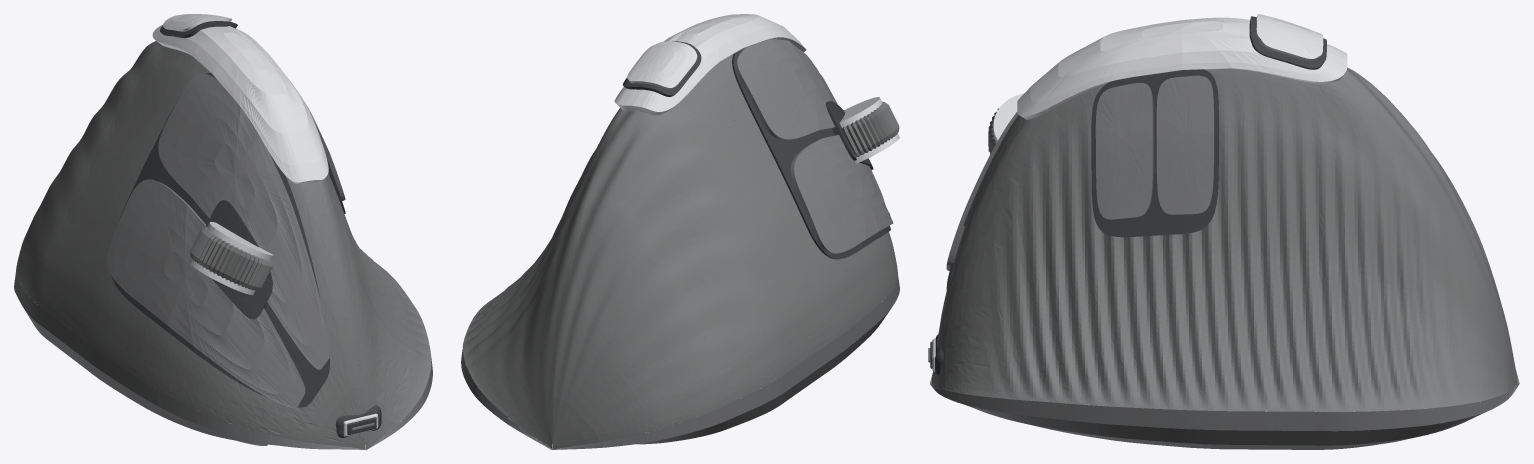
File: mouse-mx-vertical.glb
3 views of the same model, side by side, from view 1: azimuth 30°, elevation 25°; view 2: azimuth 150°, elevation 25°; view 3: azimuth 270°, elevation 25° (orthographic). The views are drawn at different scales.
Visible parts, largest first — view 1: upper_shell; view 2: upper_shell; view 3: upper_shell.
Boxes of the visible parts, x1,y1,x2,y2 form: upper_shell: (14, 14, 432, 449); upper_shell: (461, 14, 899, 449); upper_shell: (928, 14, 1519, 449).
Size of the model in its own units: 0.079 by 0.0831 by 0.1213.
Materials: 1 (1 with a texture image).
